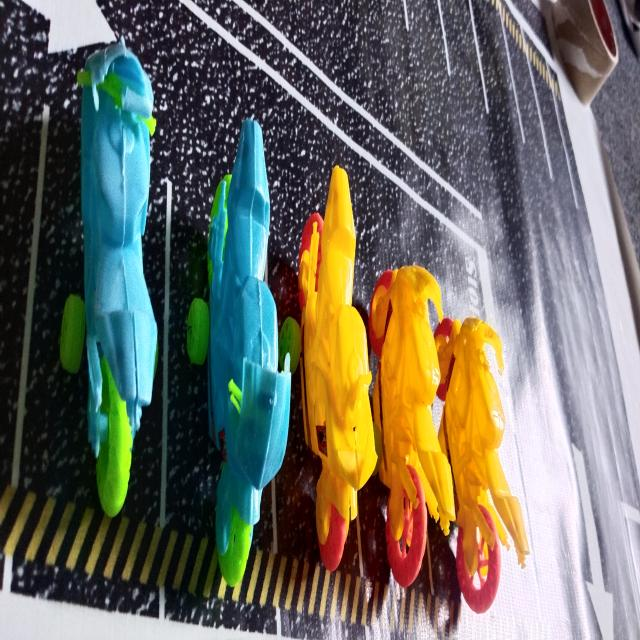occupied: (21, 42, 160, 517), (166, 120, 297, 562), (276, 166, 377, 571), (358, 266, 455, 587), (428, 318, 530, 614)
others: (539, 0, 618, 104), (619, 0, 640, 60)
slots: (502, 24, 552, 179), (530, 62, 578, 209), (471, 0, 520, 139), (440, 0, 479, 83), (478, 86, 485, 119)
